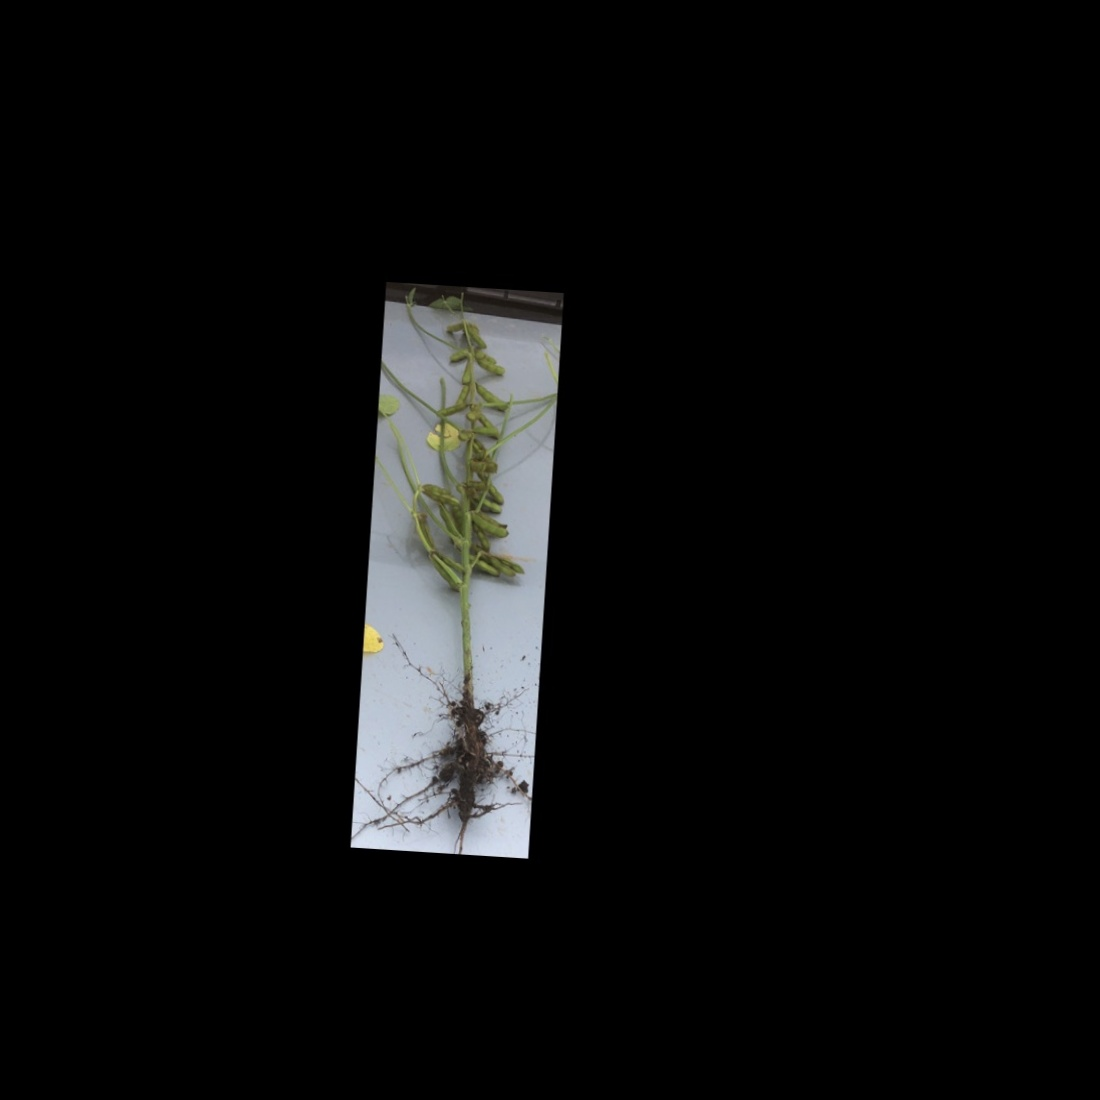pod: (470, 381, 511, 411), (469, 353, 507, 375), (467, 554, 501, 577), (468, 521, 492, 554), (435, 399, 470, 419), (464, 323, 489, 350), (446, 343, 471, 364), (442, 317, 465, 335), (454, 383, 469, 407), (459, 362, 472, 385)
soy: (365, 289, 554, 834)
